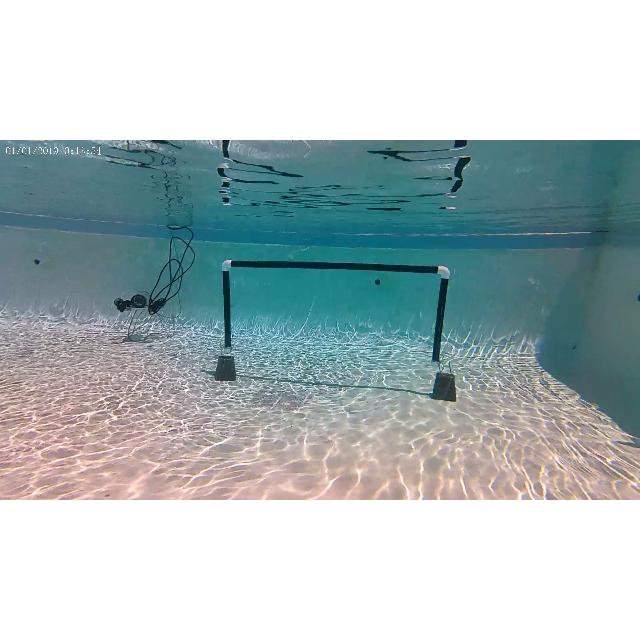prequal gate: (223, 260, 451, 366)
prequal gate leg l: (222, 260, 236, 356)
prequal gate leg r: (433, 266, 449, 362)
